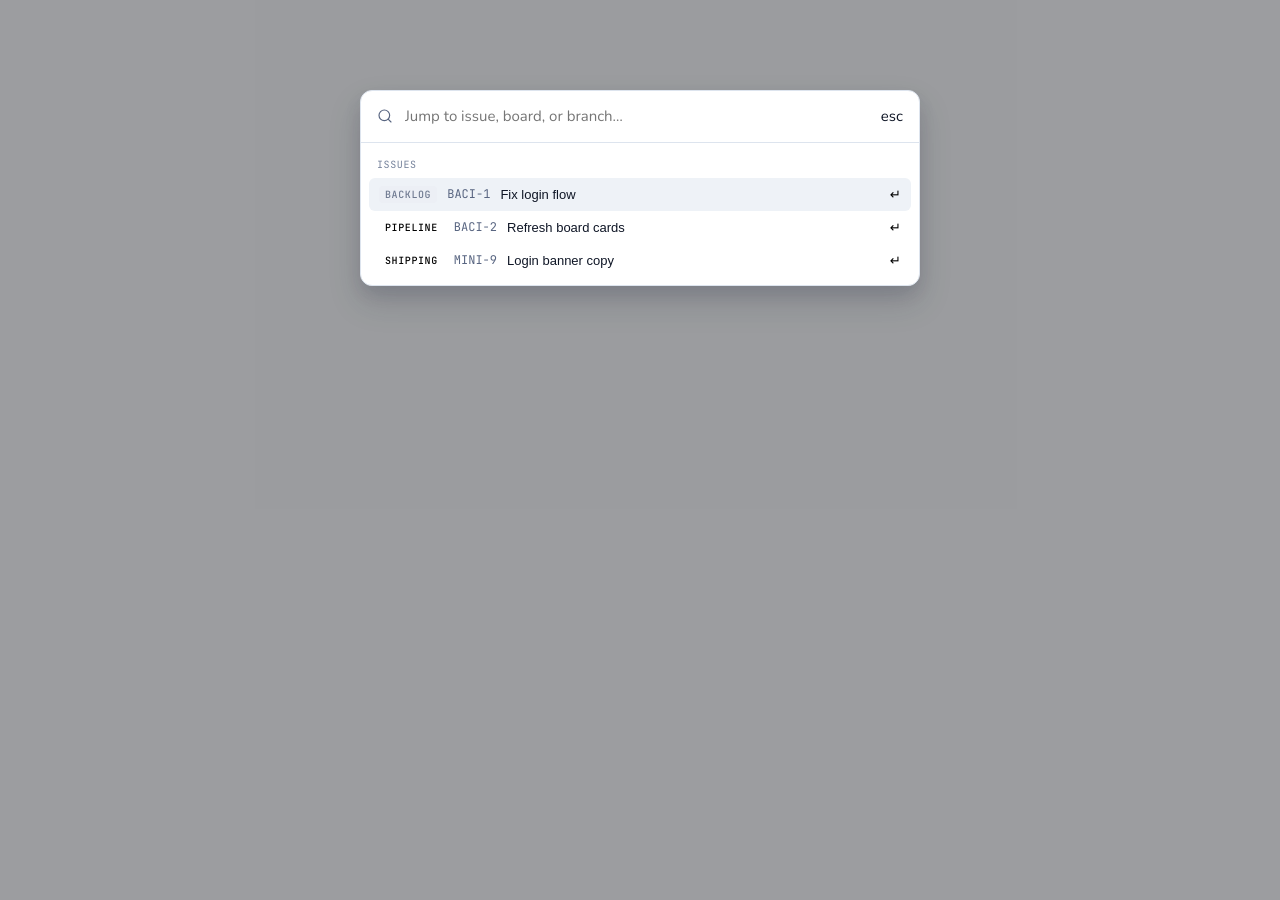
CommandPalette › shows the empty state when nothing matches
The image size is (1280, 900).
Type "zzz-nope" into the dropdown with placeholder "Jump to issue, board, or branch…" at (637, 116), box [403, 105, 871, 127]
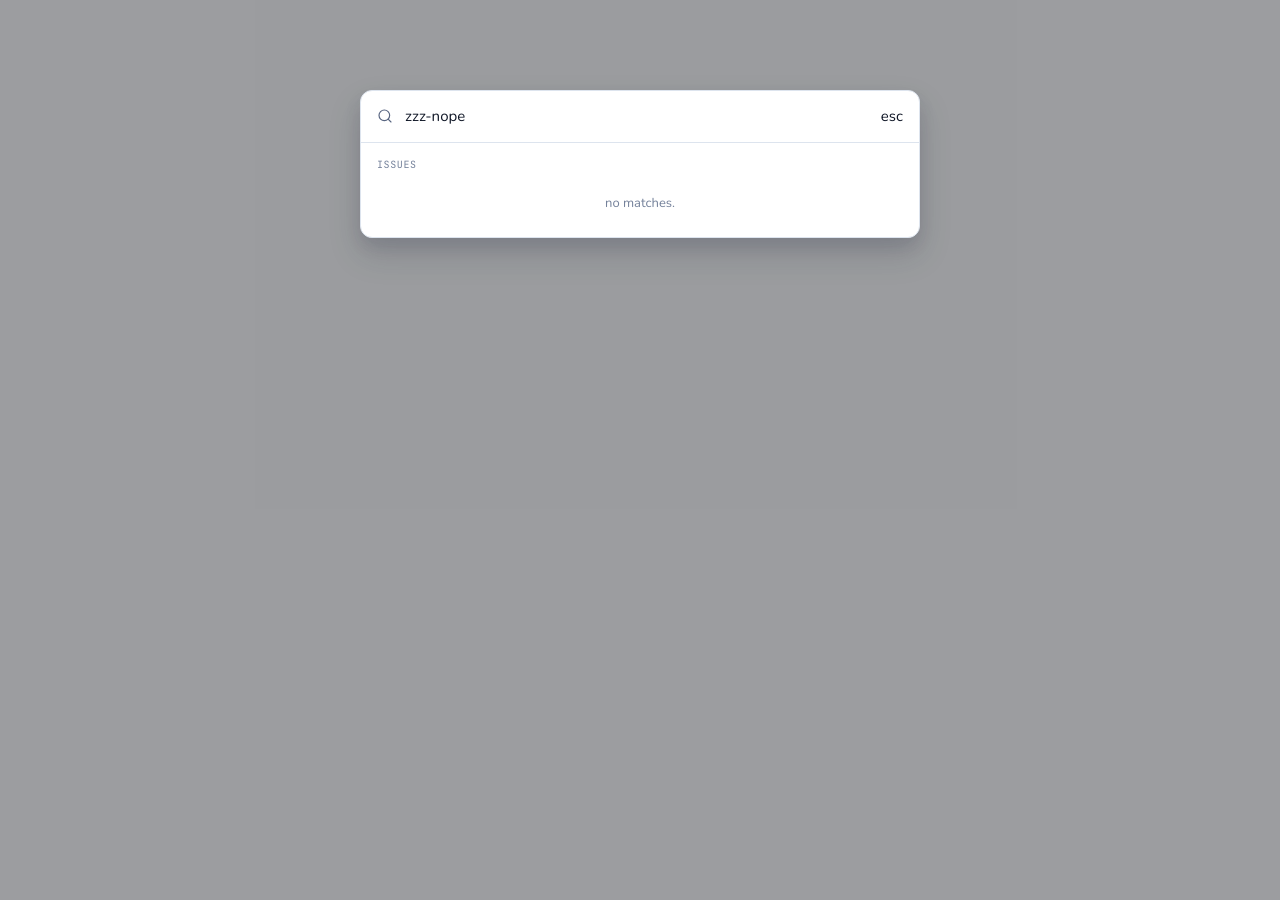
Expected: the text "no matches." is shown, [605, 194, 675, 212]
